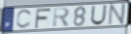8: (73, 6, 87, 27)
C: (15, 9, 33, 30)
F: (34, 7, 53, 29)
N: (107, 3, 127, 26)
R: (53, 6, 72, 28)
U: (90, 5, 108, 26)
